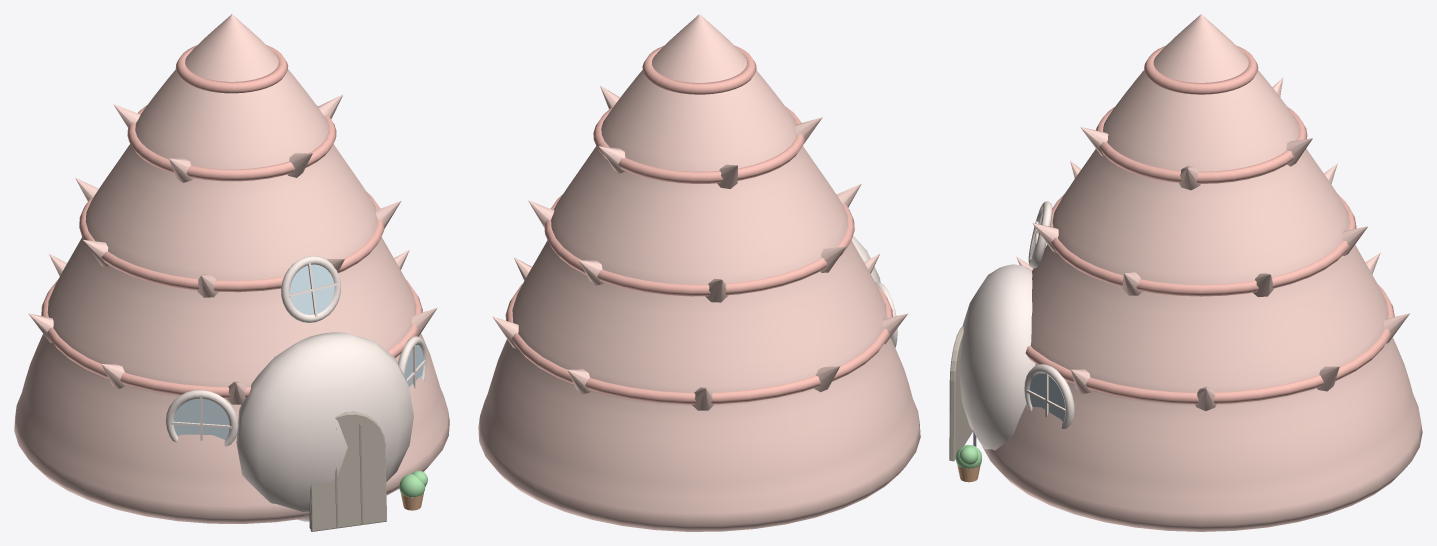
File: building_ocean_L05.glb
3 views of the same model, side by side, from view 1: azimuth 30°, elevation 25°; view 2: azimuth 150°, elevation 25°; view 3: azimuth 270°, elevation 25° (orthographic).
Parts seen in each view (by area): view 1: Body, ocean_L5; view 2: Body; view 3: Body, ocean_L5.
Boxes of the visible parts, x1,y1,x2,y2 form: Body: (14,14,449,531); ocean_L5: (399,470,427,510); Body: (478,14,920,531); Body: (949,14,1422,531); ocean_L5: (956,445,981,482).
Bounding box in the file's own units: 14.88 × 16.4 × 15.9.
